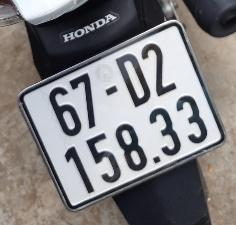1: (55, 142, 101, 202)
2: (134, 36, 178, 99)
3: (143, 100, 189, 162), (172, 89, 212, 148)
5: (79, 128, 128, 191)
6: (41, 80, 87, 146)
7: (66, 66, 110, 134)
8: (111, 119, 154, 174)
D: (110, 52, 157, 114)
